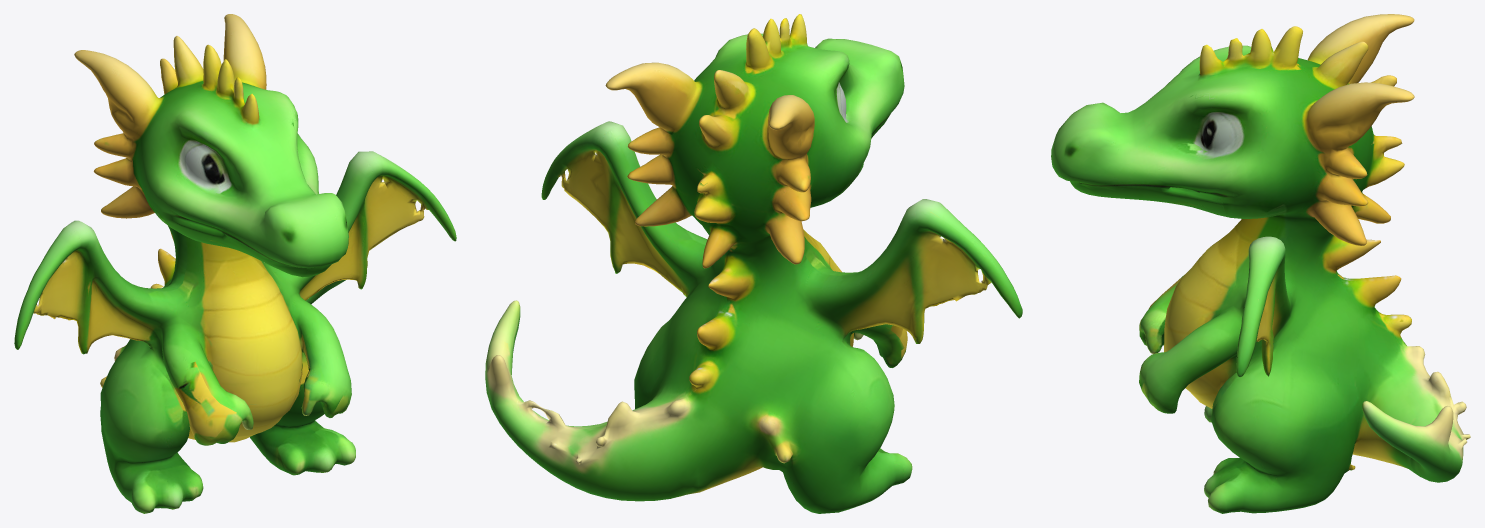
The model's file is dragon.glb.
The picture shows the model from 3 angles, left to right: view 1: azimuth 30°, elevation 25°; view 2: azimuth 150°, elevation 25°; view 3: azimuth 270°, elevation 25°; orthographic projection. The views are drawn at different scales.
Parts seen in each view (by area): view 1: model; view 2: model; view 3: model.
Boxes of the visible parts, x1=… form: model: x1=14, y1=14, x2=456, y2=513; model: x1=485, y1=14, x2=1022, y2=513; model: x1=1051, y1=14, x2=1470, y2=513.
Size of the model in its own units: 1.89 by 1.74 by 1.5.
Materials: 1 (1 with a texture image).
